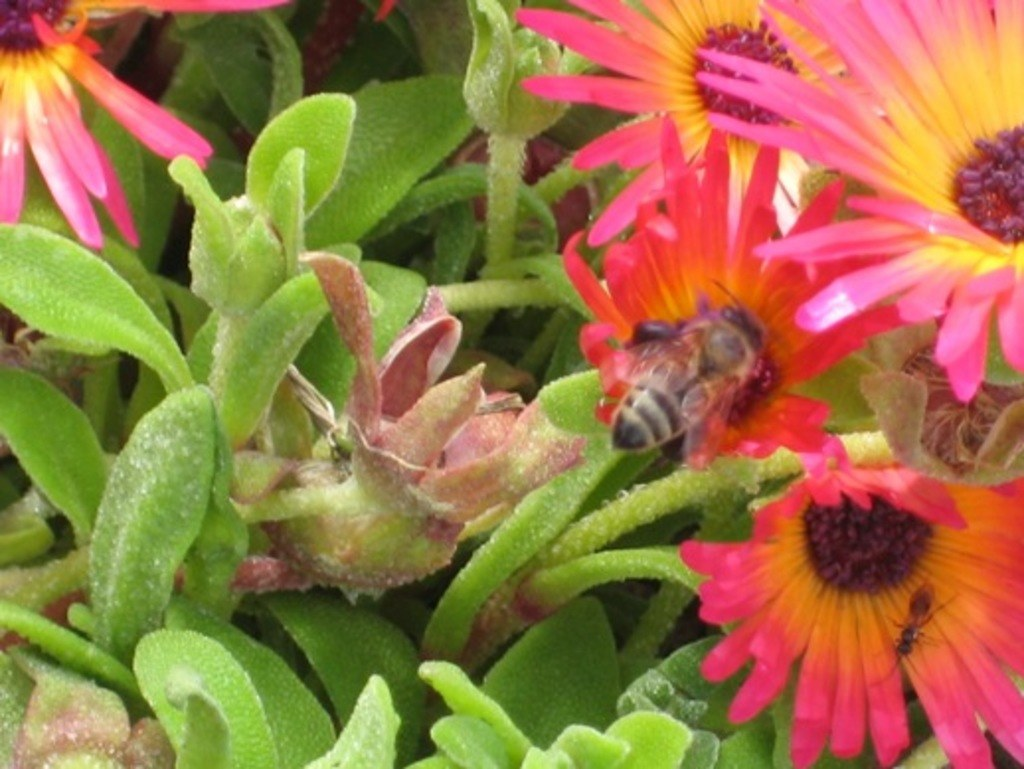bee: (601, 279, 785, 453)
